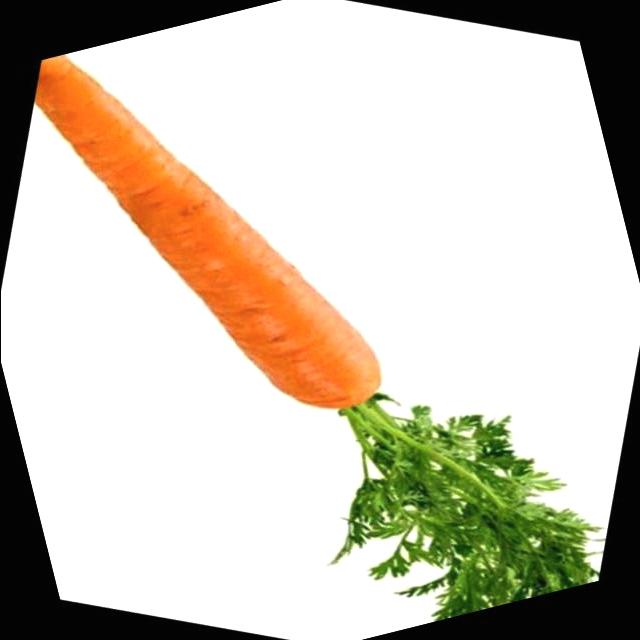carrot: (0, 0, 531, 540)
